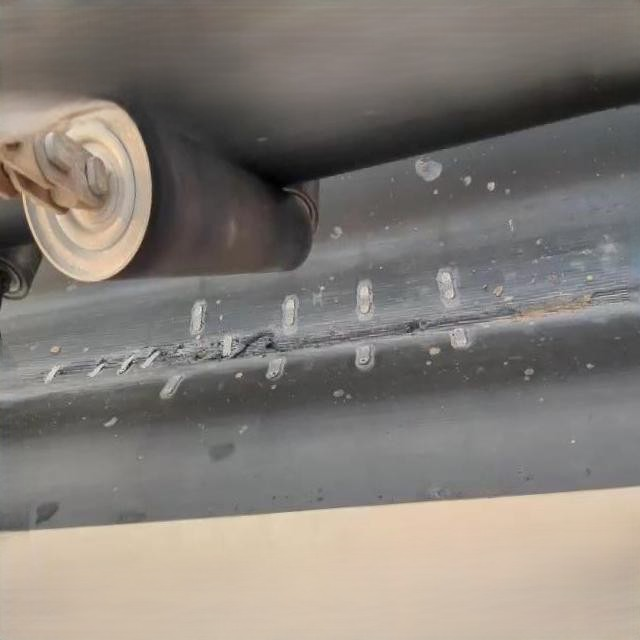Tear: (210, 326, 287, 364)
Wear: (4, 280, 640, 392)
